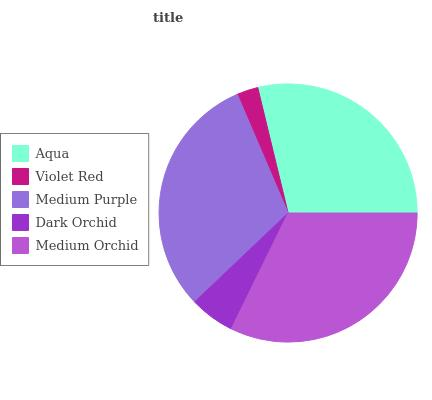legend: (0, 135, 149, 264)
sector: (157, 93, 288, 303), (231, 212, 418, 342), (259, 82, 417, 213), (194, 213, 286, 329), (238, 86, 290, 212)
